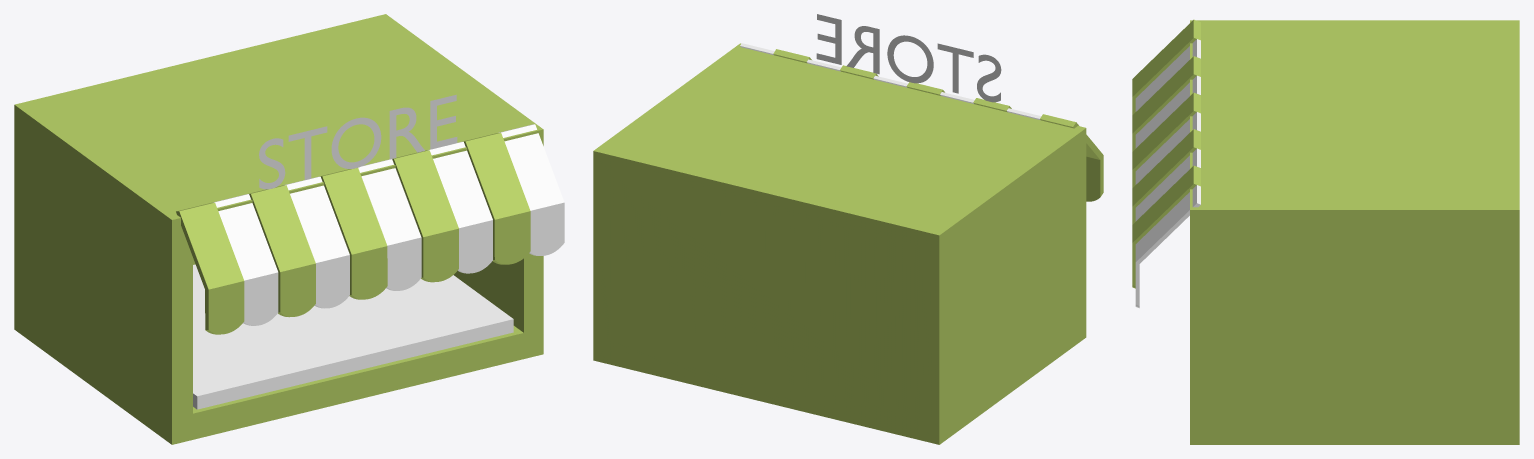
3 renders of one model, left to right at view 1: azimuth 30°, elevation 25°; view 2: azimuth 150°, elevation 25°; view 3: azimuth 270°, elevation 25°, orthographic. The views are drawn at different scales.
Visible parts, largest first — view 1: Cube.002, Plane, Plane.001, STORE; view 2: Cube.002, STORE, Plane, Plane.001; view 3: Cube.002, Plane, Plane.001.
Boxes of the visible parts, <box> form: Cube.002: <box>14,14,543,444</box>; Plane: <box>176,132,530,334</box>; Plane.001: <box>213,124,564,325</box>; STORE: <box>259,94,457,189</box>; Cube.002: <box>593,43,1086,444</box>; STORE: <box>816,14,1001,102</box>; Plane: <box>773,49,1103,201</box>; Plane.001: <box>740,43,1041,120</box>; Cube.002: <box>1190,20,1519,444</box>; Plane: <box>1132,19,1200,288</box>; Plane.001: <box>1135,39,1200,308</box>.
Bounding box in the file's own units: 7581 × 5447 × 6547.
